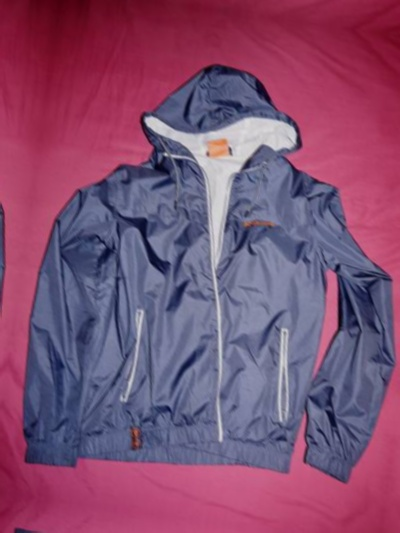Hoodie: (0, 27, 400, 496), (0, 0, 56, 441), (390, 83, 400, 533), (67, 0, 400, 3)
